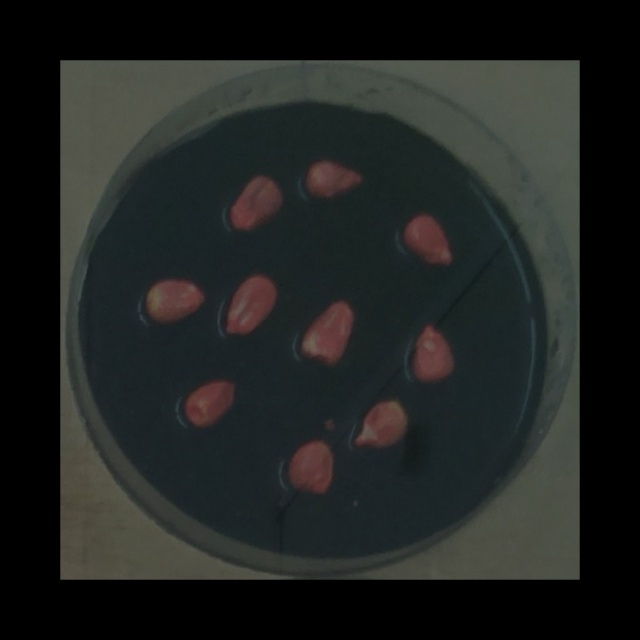Zea mays: (295, 295, 362, 374), (218, 269, 283, 339), (224, 169, 287, 237), (397, 208, 458, 272), (350, 394, 415, 454), (406, 319, 460, 388), (300, 155, 369, 208), (140, 275, 209, 328), (180, 375, 242, 433), (282, 436, 338, 500)
